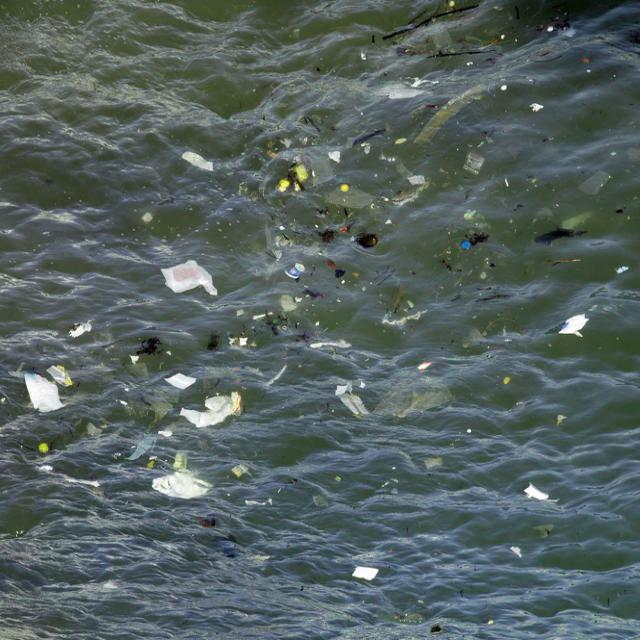Trash: (160, 258, 228, 307), (182, 392, 248, 433), (153, 468, 215, 502), (22, 372, 70, 415), (341, 377, 376, 424), (557, 308, 593, 344), (159, 368, 197, 391), (351, 559, 383, 585), (285, 256, 308, 283), (525, 485, 554, 506)
